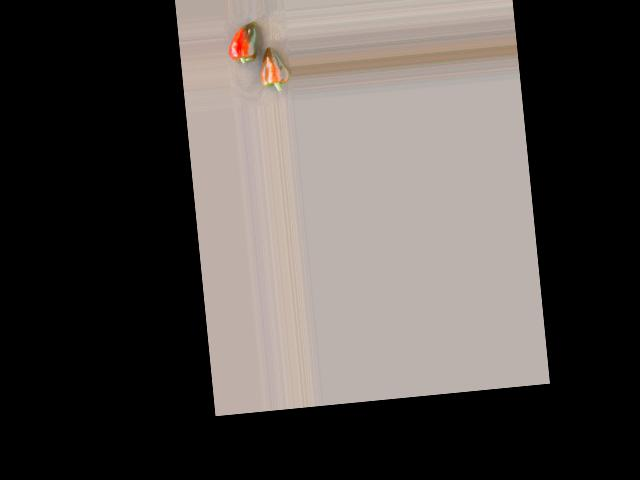bell_pepper: (224, 19, 263, 79)
